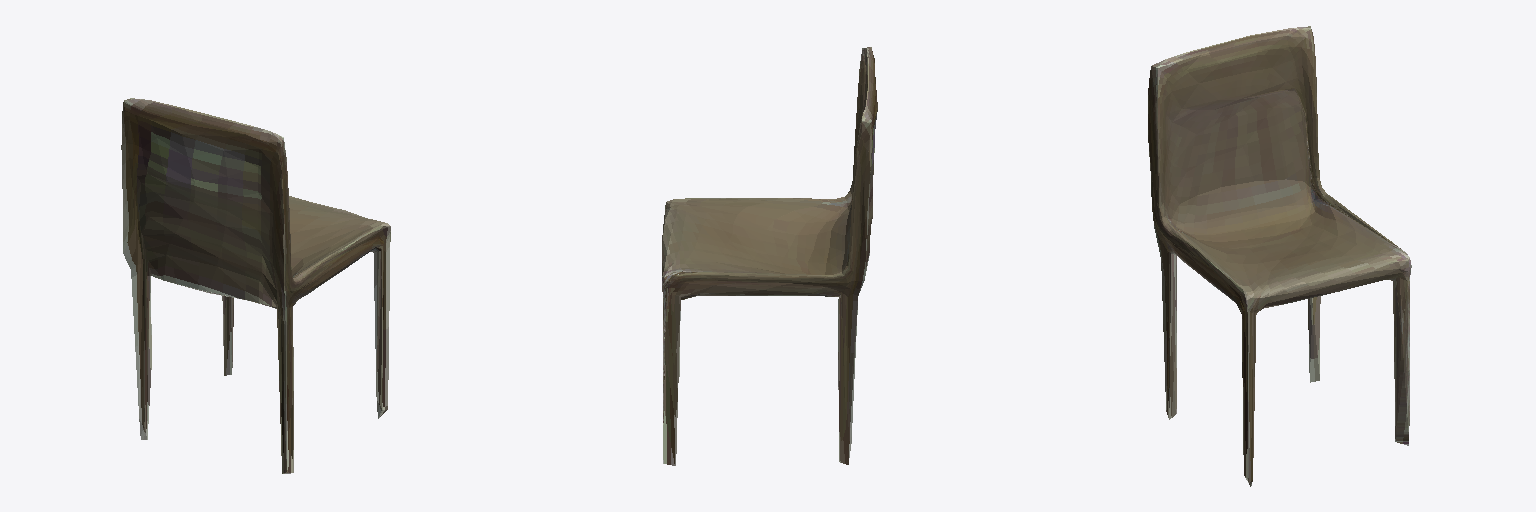
The picture shows the model from 3 angles: view 1: azimuth 30°, elevation 25°; view 2: azimuth 150°, elevation 25°; view 3: azimuth 270°, elevation 25°; orthographic projection.
Size of the model in its own units: 0.6944 by 1 by 0.6671.
Materials: 1 (1 with a texture image).